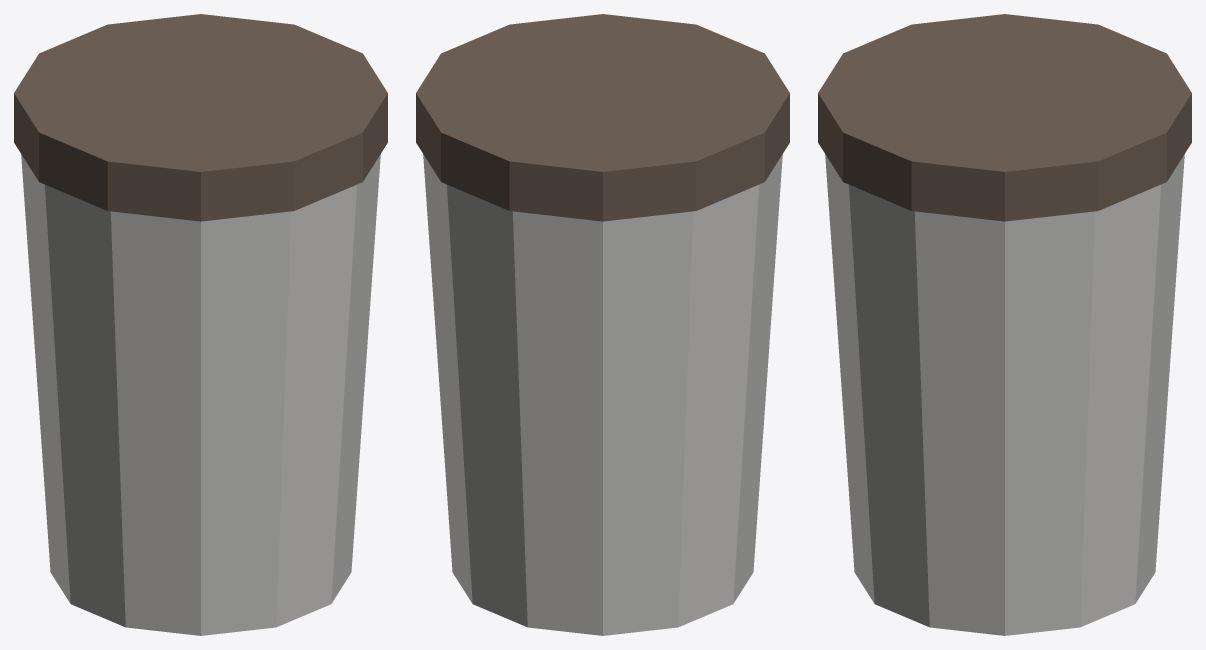
File: 2029-People-held-props-cup.glb
3 views of the same model, side by side, from view 1: azimuth 30°, elevation 25°; view 2: azimuth 150°, elevation 25°; view 3: azimuth 270°, elevation 25° (orthographic).
Visible parts, largest first — view 1: People: held props/cup; view 2: People: held props/cup; view 3: People: held props/cup.
Boxes of the visible parts, x1,y1,x2,y2 form: People: held props/cup: (14,14,387,635); People: held props/cup: (416,14,789,635); People: held props/cup: (818,14,1191,635).
Bounding box in the file's own units: 0.082 × 0.116 × 0.082.
